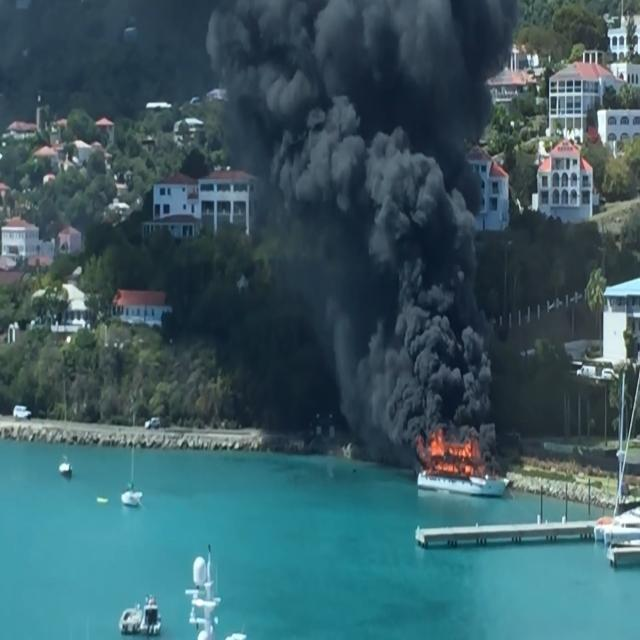Smoke: (321, 83, 448, 356)
